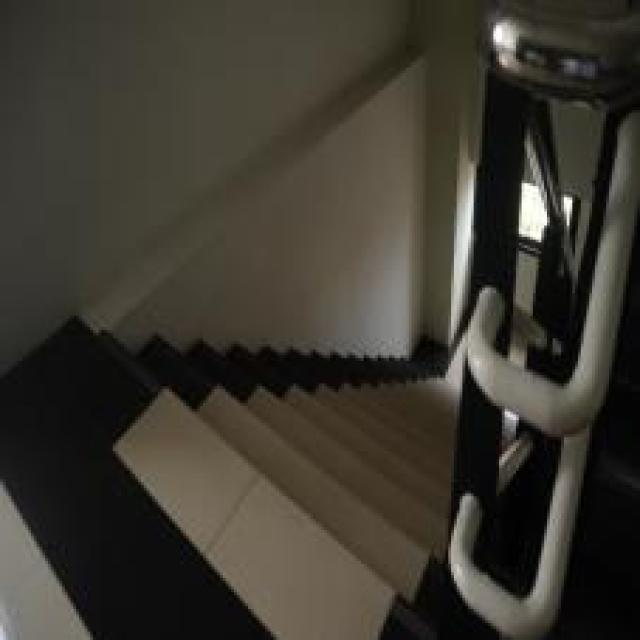downstair: (115, 394, 414, 640)
